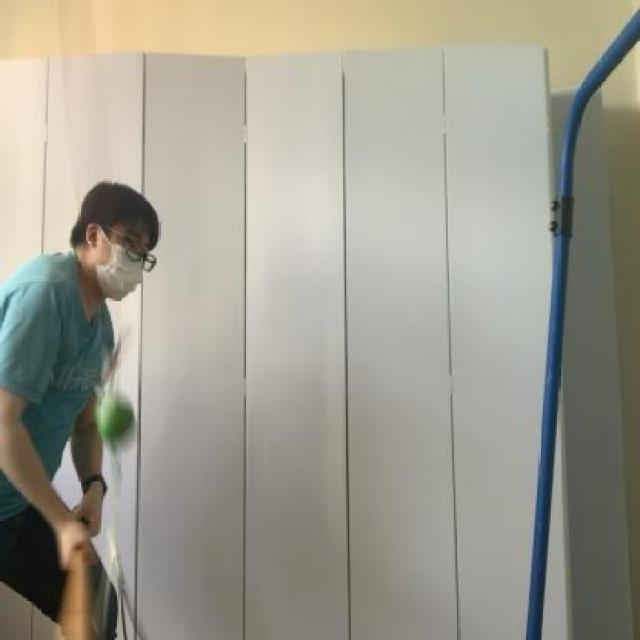baseball: (93, 395, 144, 459)
